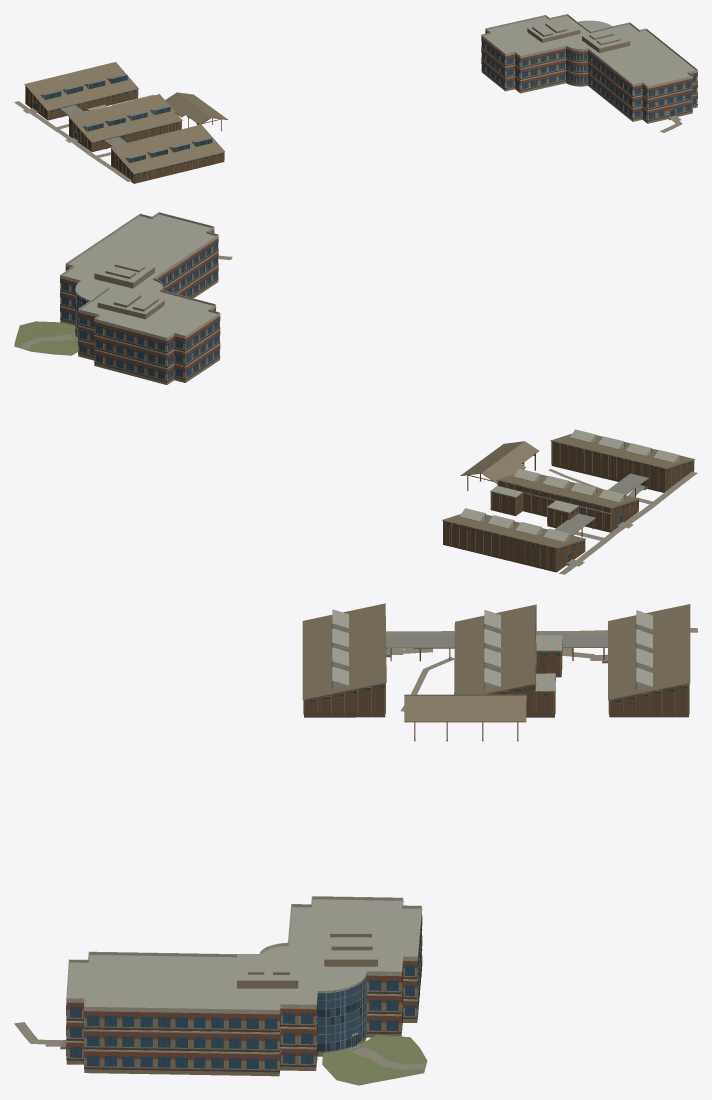
Rendered from site.glb.
The picture shows the model from 3 angles, top to bottom: view 1: azimuth 30°, elevation 25°; view 2: azimuth 150°, elevation 25°; view 3: azimuth 270°, elevation 25°; orthographic projection. The views are drawn at different scales.
Visible parts, largest first — view 1: roof-37a3afa0, roof-1f65a447, roof-4071cebd, roof-f37c4e05, northsite-millrace-grounds; view 2: roof-37a3afa0, roof-1f65a447, roof-f37c4e05, roof-4071cebd, northsite-millrace-grounds; view 3: roof-37a3afa0, roof-1f65a447, roof-4071cebd, roof-f37c4e05, northsite-millrace-grounds.
Part boxes in pixels (x1,y1,x2,y2): roof-37a3afa0: (481, 14, 697, 123); roof-1f65a447: (68, 92, 227, 151); roof-4071cebd: (104, 124, 224, 183); roof-f37c4e05: (24, 62, 138, 120); northsite-millrace-grounds: (14, 101, 682, 181); roof-37a3afa0: (60, 212, 220, 384); roof-1f65a447: (460, 441, 639, 532); roof-f37c4e05: (442, 508, 595, 572); roof-4071cebd: (550, 429, 695, 496); northsite-millrace-grounds: (14, 255, 697, 574); roof-37a3afa0: (66, 896, 422, 1076); roof-1f65a447: (404, 604, 562, 741); roof-4071cebd: (302, 603, 454, 717); roof-f37c4e05: (536, 604, 690, 717); northsite-millrace-grounds: (14, 628, 697, 1085).
Bounding box in the file's own units: 206 × 15.71 × 131.
